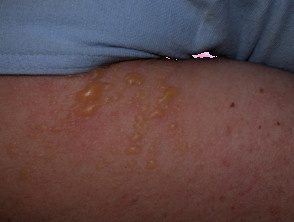SJS-TEN: (0, 58, 184, 202)
